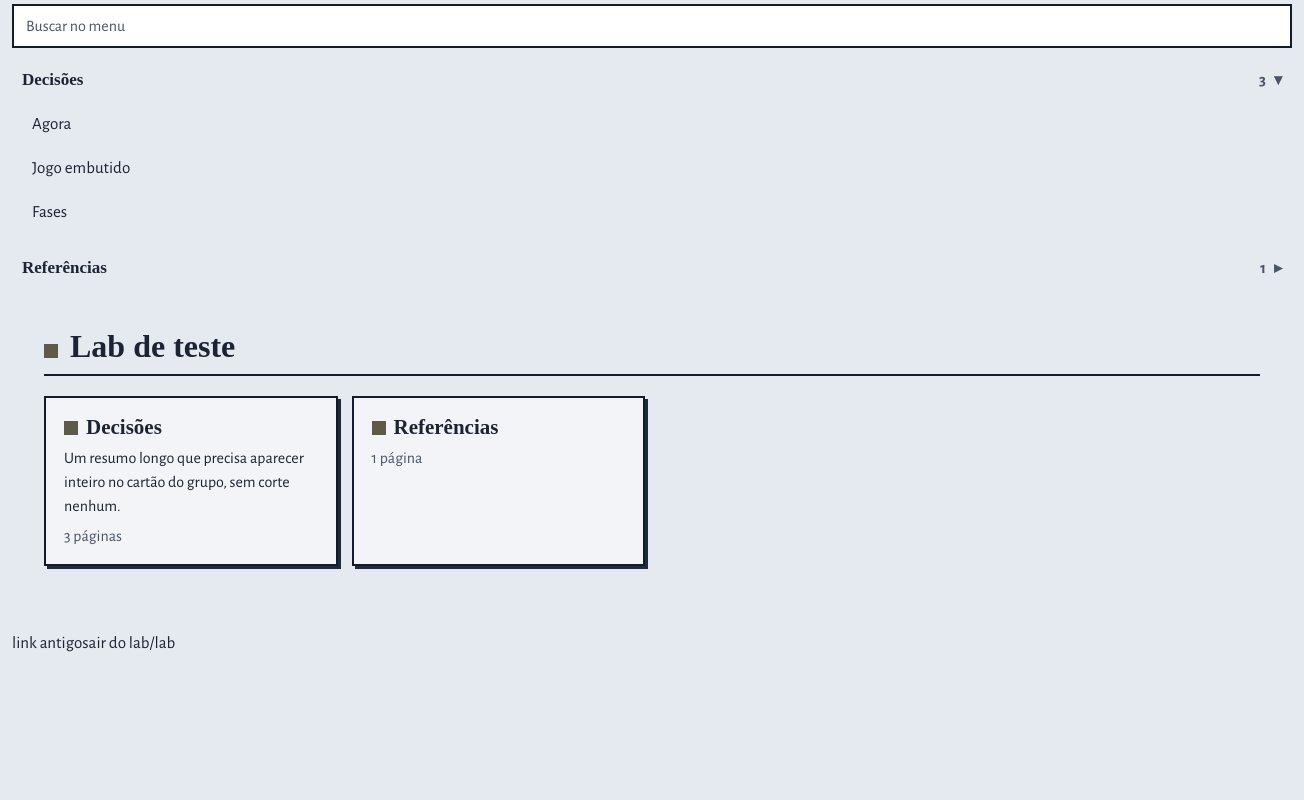
Paginas › says so when nothing matches
In the search field: (652, 26) [12, 4, 1292, 48], type "zzz"
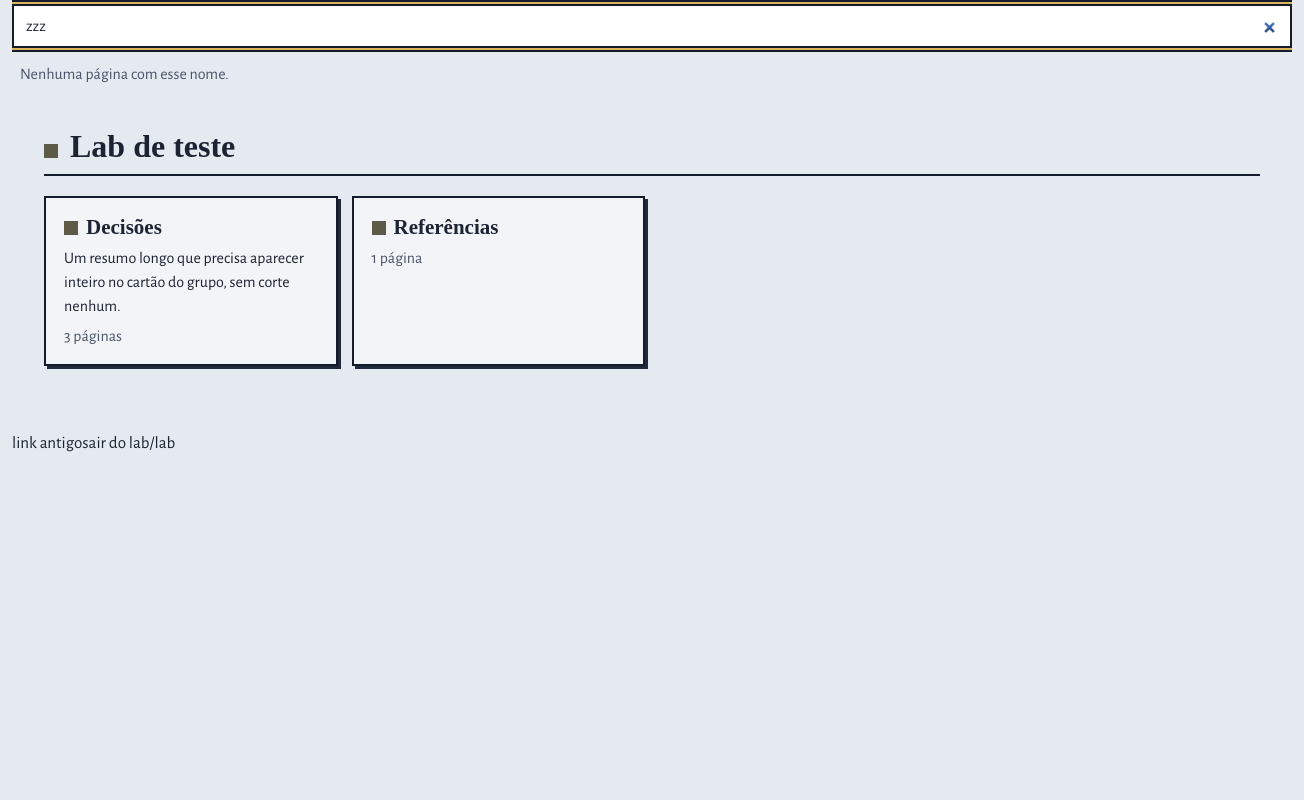
Result: the message reads "Nenhuma página com esse nome." at [20, 66, 229, 82]
